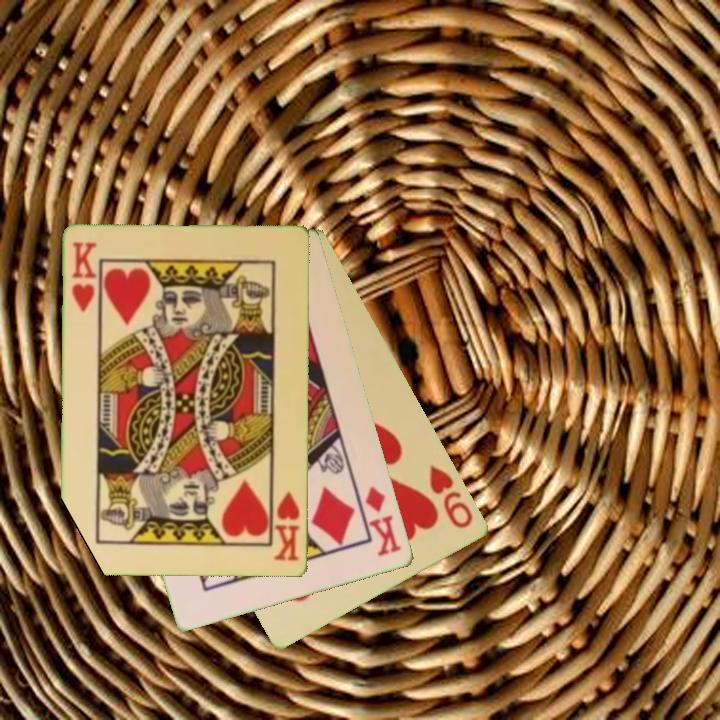9h: (426, 461, 477, 532)
Kd: (354, 482, 405, 560)
Kh: (270, 482, 303, 564), (68, 239, 100, 316)
